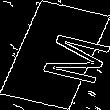M_W: (12, 25, 98, 85)
